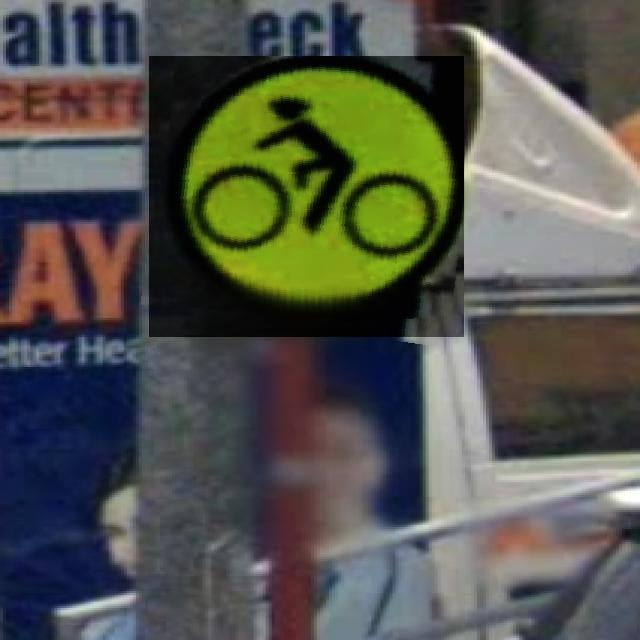bike lane: (149, 56, 464, 337)
